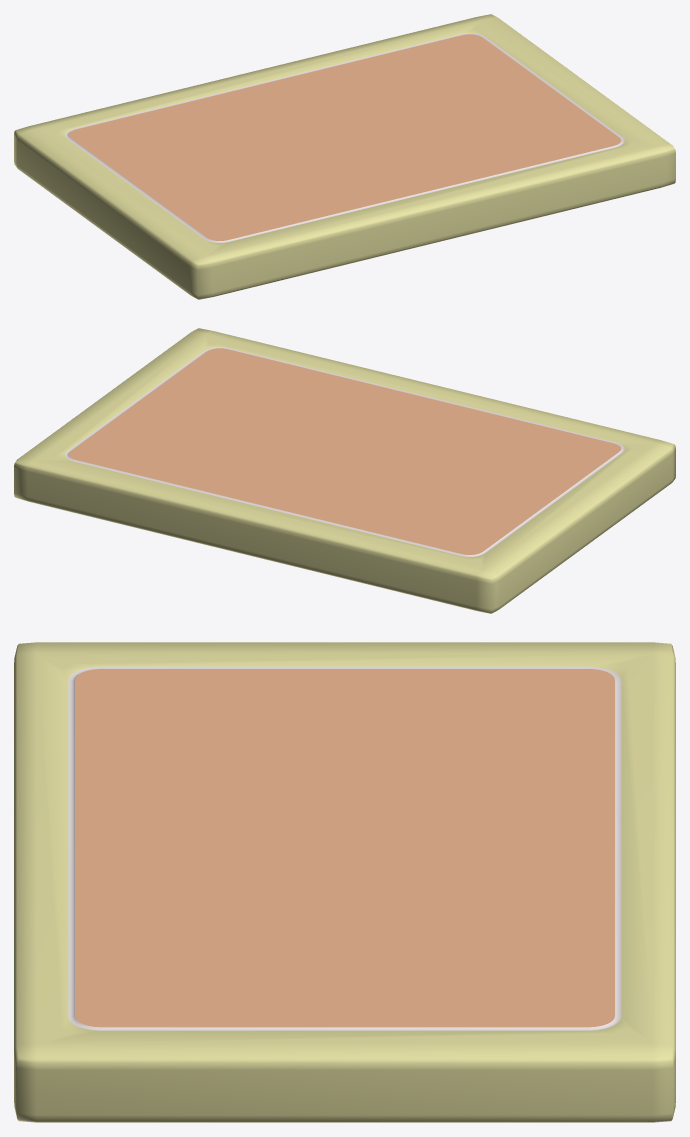
The model's file is MapElements.fbx.
3 renders of one model, top to bottom at view 1: azimuth 30°, elevation 25°; view 2: azimuth 150°, elevation 25°; view 3: azimuth 270°, elevation 25°, orthographic. The views are drawn at different scales.
Parts seen in each view (by area): view 1: Map; view 2: Map; view 3: Map.
Part boxes in pixels (bbox=[...]): Map: bbox=[14, 14, 675, 299]; Map: bbox=[14, 328, 675, 613]; Map: bbox=[14, 642, 675, 1122].
Bounding box in the file's own units: 3056 × 231 × 2037.
